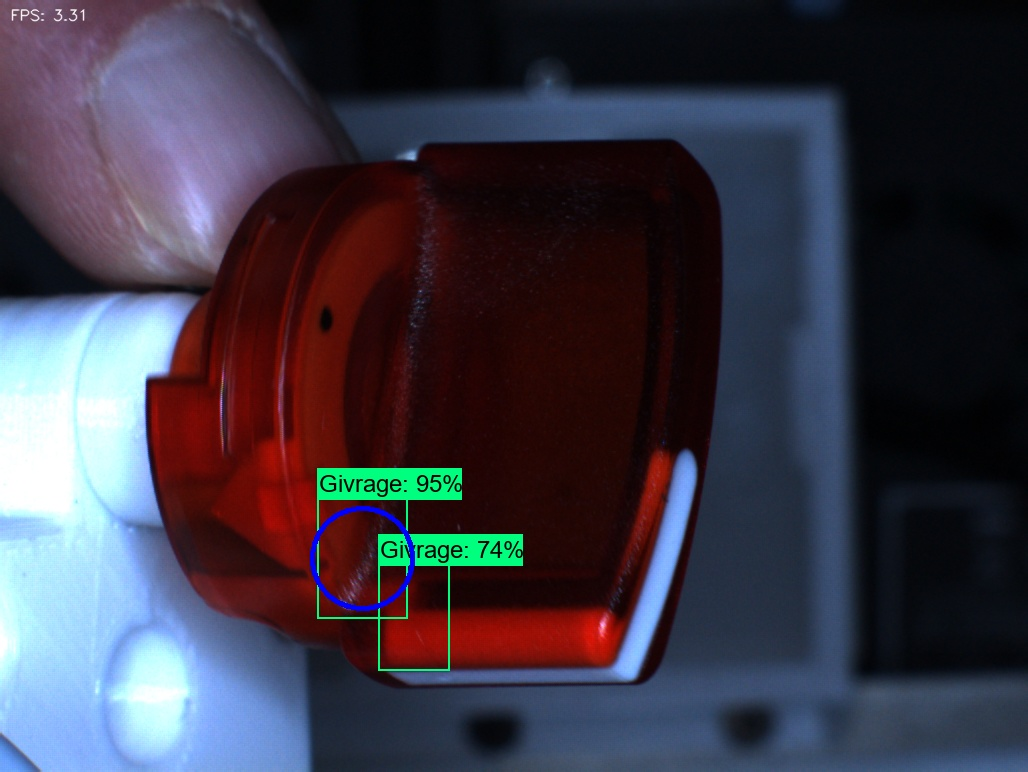PointNoir: (293, 271, 361, 378)
